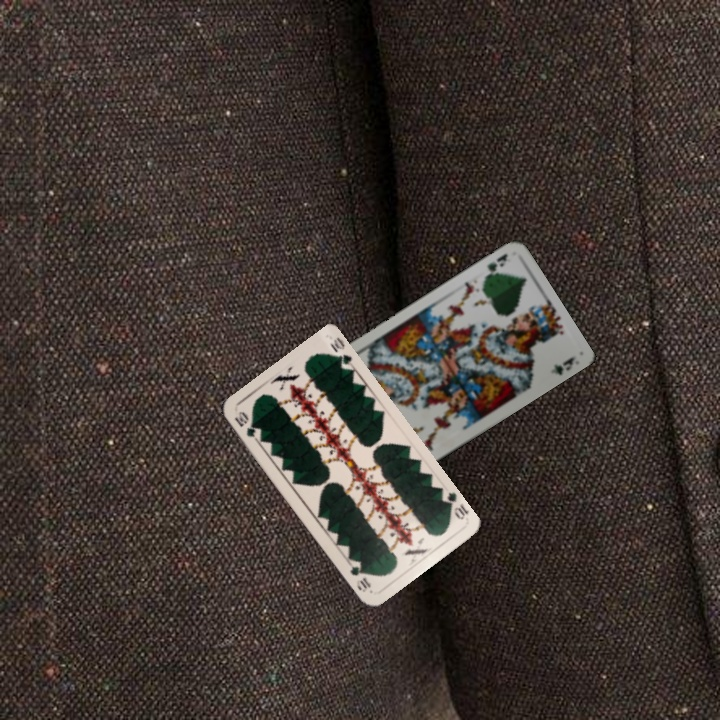G10: (230, 407, 264, 444), (437, 488, 471, 522)
GK: (480, 249, 510, 282)
